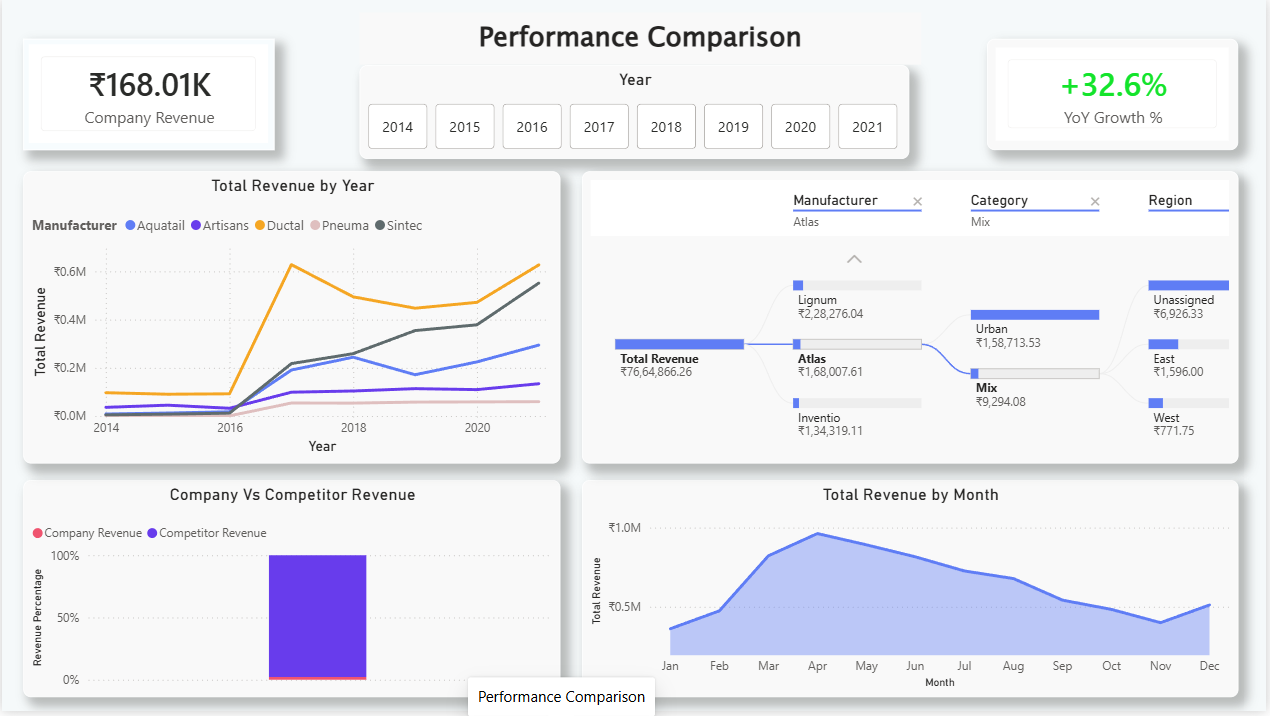

The page's visual inventory and layout, read from the dashboard file:
{"tool":"powerbi","page":{"name":"Performance Comparison","canvas":[1280,720],"ordinal":2},"visuals":[{"type":"cardVisual","fields":{"Data":["_Measures.Company Revenue"]},"box":[21.5,39.2,254.4,112.7],"z":0},{"type":"advancedSlicerVisual","fields":{"Values":["Dim_Date.Year"]},"box":[362,65.8,557,94.9],"z":1000},{"type":"cardVisual","fields":{"Data":["_Measures.YoY Growth %"]},"box":[997.5,39.2,254.4,112.7],"z":2000},{"type":"textbox","box":[362,12.5,568.7,52.6],"z":3000},{"type":"areaChart","title":"Total Revenue by Month","fields":{"Y":["_Measures.Total Revenue"],"Category":["Dim_Date.MonthName"]},"box":[587.3,486.1,664.6,220.3],"z":4000},{"type":"hundredPercentStackedColumnChart","title":"Company Vs Competitor Revenue","fields":{"Y":["_Measures.Company Revenue","_Measures.Competitor Revenue"]},"box":[21.5,486.1,544.3,220.3],"z":5000},{"type":"lineChart","title":"Total Revenue by Year","fields":{"Category":["Dim_Date.Year"],"Y":["_Measures.Total Revenue"],"Series":["Dim_Manufacturer.Manufacturer"]},"box":[21.5,173.4,544.3,296.2],"z":6000},{"type":"decompositionTreeVisual","fields":{"Analyze":["_Measures.Total Revenue"],"ExplainBy":["Dim_Manufacturer.Manufacturer","Dim_Product.Category","Dim_Geography.Region"]},"box":[587.3,173.4,664.6,296.2],"z":7000}]}

Visuals, with their boxes in screenshot pixels (x1, y1, x2, y2), scaled from the page's 1280x720 canvas onto the 1270x716 screenshot:
cardVisual - _Measures.Company Revenue: x1=21, y1=39, x2=274, y2=151
advancedSlicerVisual - Dim_Date.Year: x1=359, y1=65, x2=912, y2=160
cardVisual - _Measures.YoY Growth %: x1=990, y1=39, x2=1242, y2=151
textbox: x1=359, y1=12, x2=923, y2=65
"Total Revenue by Month" areaChart: x1=583, y1=483, x2=1242, y2=702
"Company Vs Competitor Revenue" hundredPercentStackedColumnChart: x1=21, y1=483, x2=561, y2=702
"Total Revenue by Year" lineChart: x1=21, y1=172, x2=561, y2=467
decompositionTreeVisual - _Measures.Total Revenue x Dim_Manufacturer.Manufacturer: x1=583, y1=172, x2=1242, y2=467
